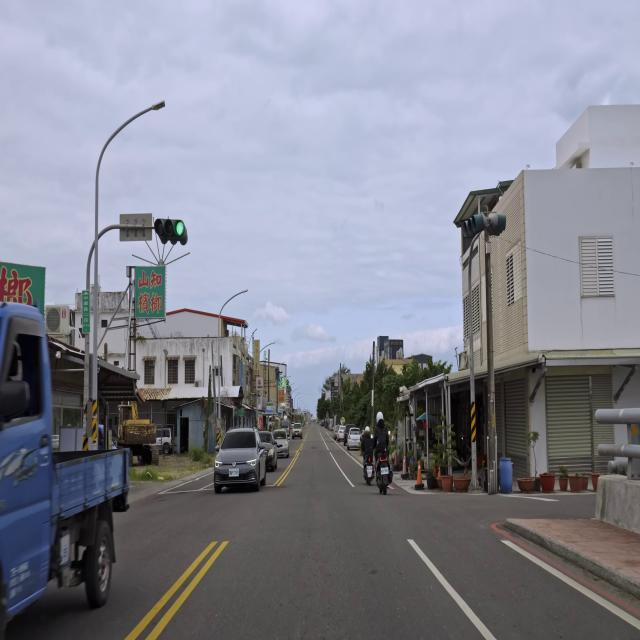green light: (154, 216, 188, 246)
